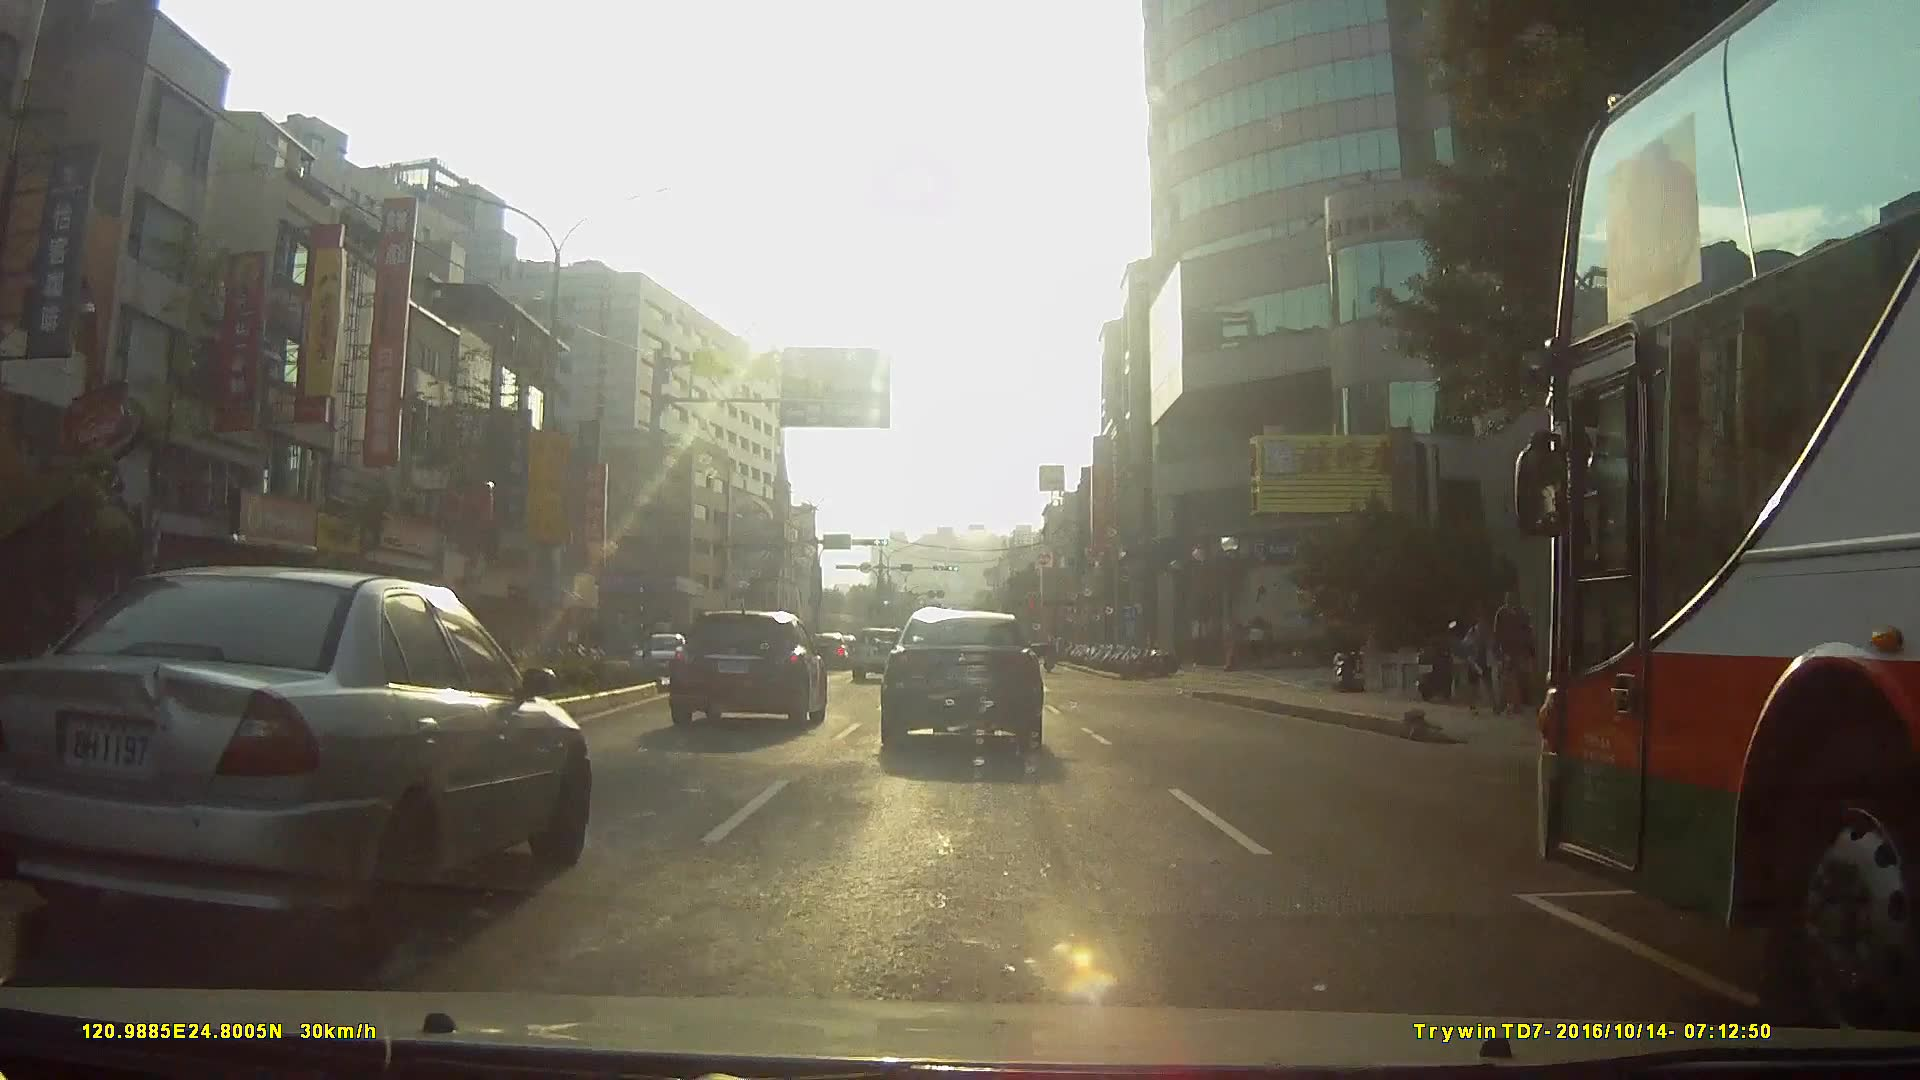pedestrian: (1487, 589, 1538, 720), (1458, 611, 1506, 716)
vehicle: (1488, 1, 1920, 1007), (0, 565, 591, 958), (874, 609, 1042, 754), (667, 613, 828, 734), (847, 626, 907, 681), (636, 633, 694, 683)
